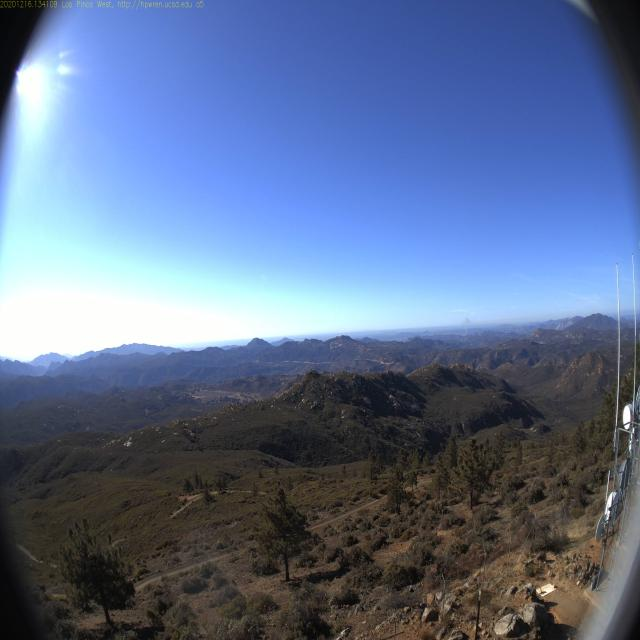smoke: (459, 311, 472, 343)
